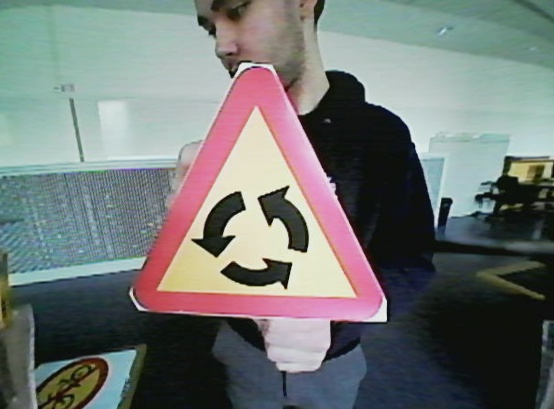roundabout_warning: (128, 51, 394, 326)
